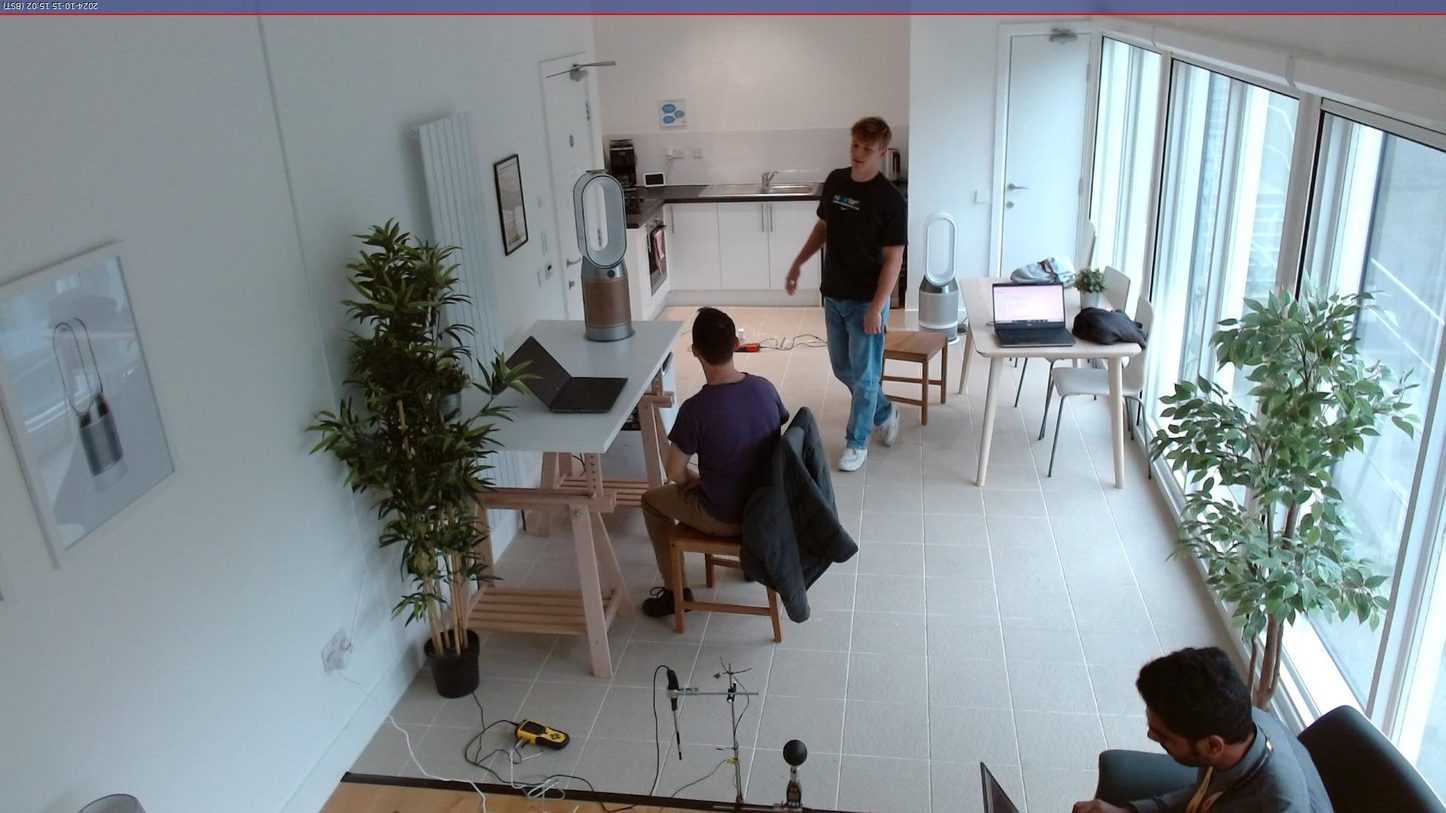long sleeve shirt: (1129, 705, 1334, 813)
short sleeve shirt: (665, 369, 793, 522), (816, 169, 911, 302)
trousers: (639, 481, 749, 600), (824, 291, 894, 450)
